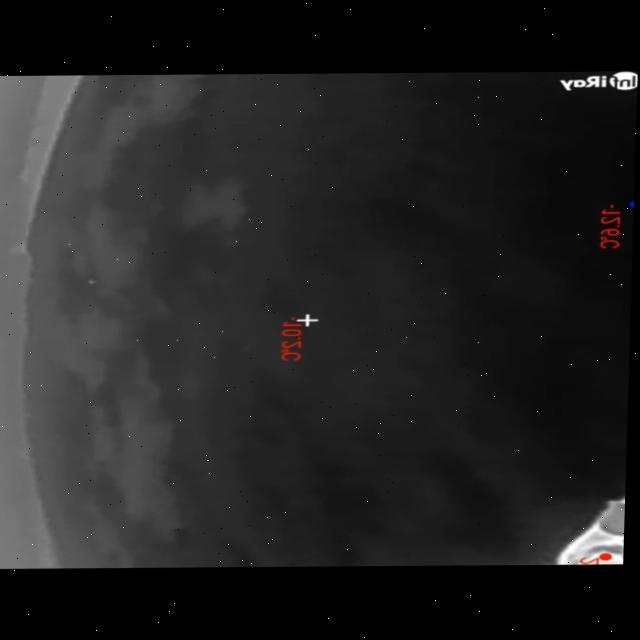drone: (84, 278, 99, 284)
